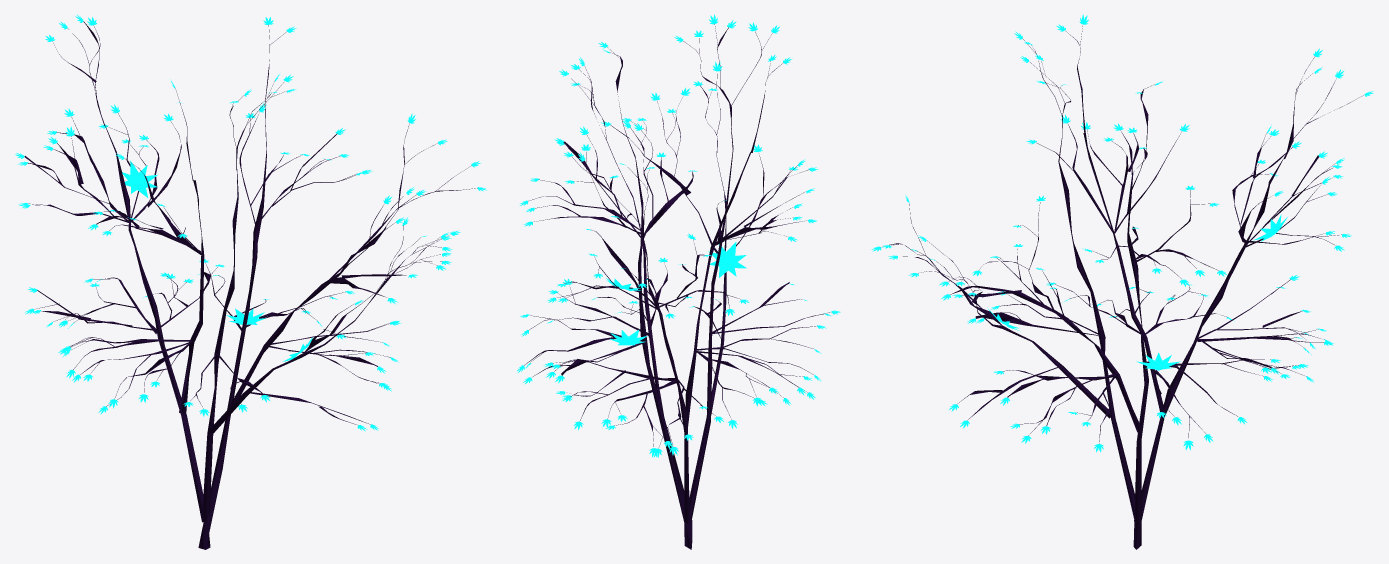
Rendered from sui.gltf.
The picture shows the model from 3 angles, left to right: view 1: azimuth 30°, elevation 25°; view 2: azimuth 150°, elevation 25°; view 3: azimuth 270°, elevation 25°; orthographic projection. The views are drawn at different scales.
Visible parts, largest first — view 1: tree, leaves, Plane; view 2: tree, leaves, Plane; view 3: tree, leaves.
Part boxes in pixels (x1,y1,x2,y2): tree: [24, 21, 477, 549]; leaves: [15, 14, 486, 431]; Plane: [122, 160, 157, 197]; tree: [524, 24, 829, 549]; leaves: [517, 14, 840, 457]; Plane: [708, 242, 746, 277]; tree: [882, 26, 1363, 549]; leaves: [871, 14, 1373, 452].
Size of the model in its own units: 5.5 by 8.03 by 7.25.
